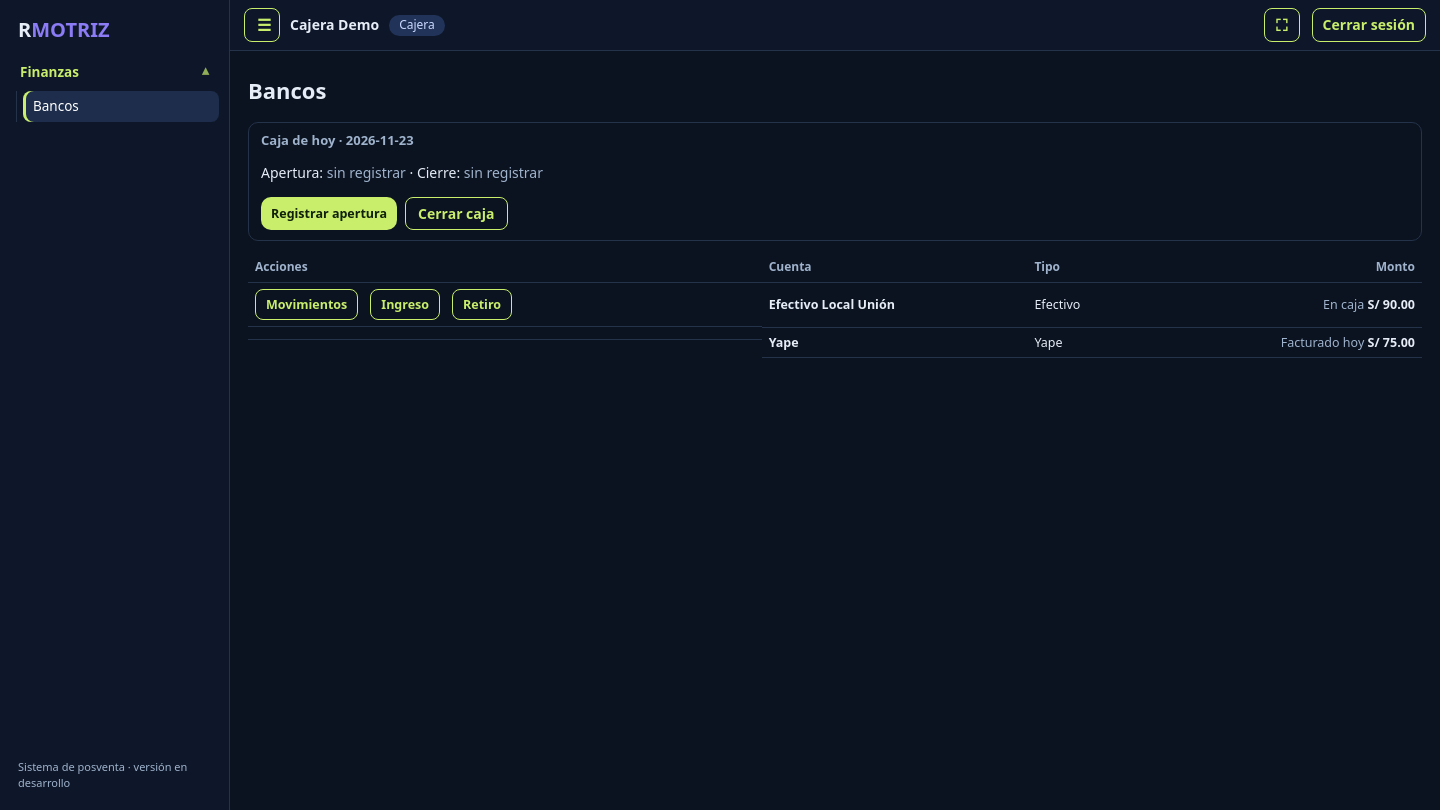
Scenario: Cajera: registra con cuánto abre la caja, ve sus movimientos y cierra la caja
Later steps or results of the test are not shown.
Expected: the table named "Cuentas" is shown, [248,253,1422,358]
Click the button "Registrar apertura" at [329, 213], box [261,197,397,230]
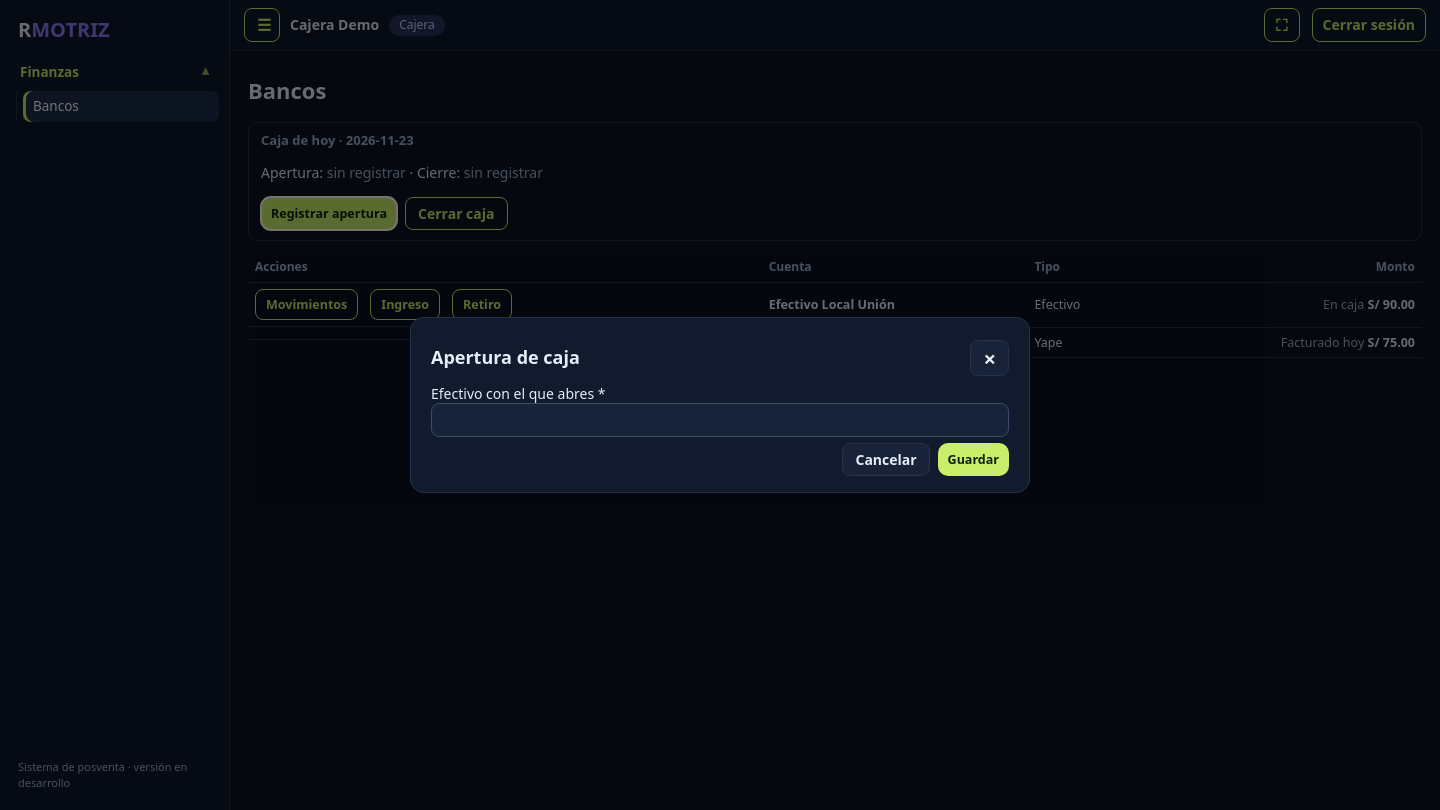
Click the button "Guardar" at [973, 460], box [938,443,1009,476]
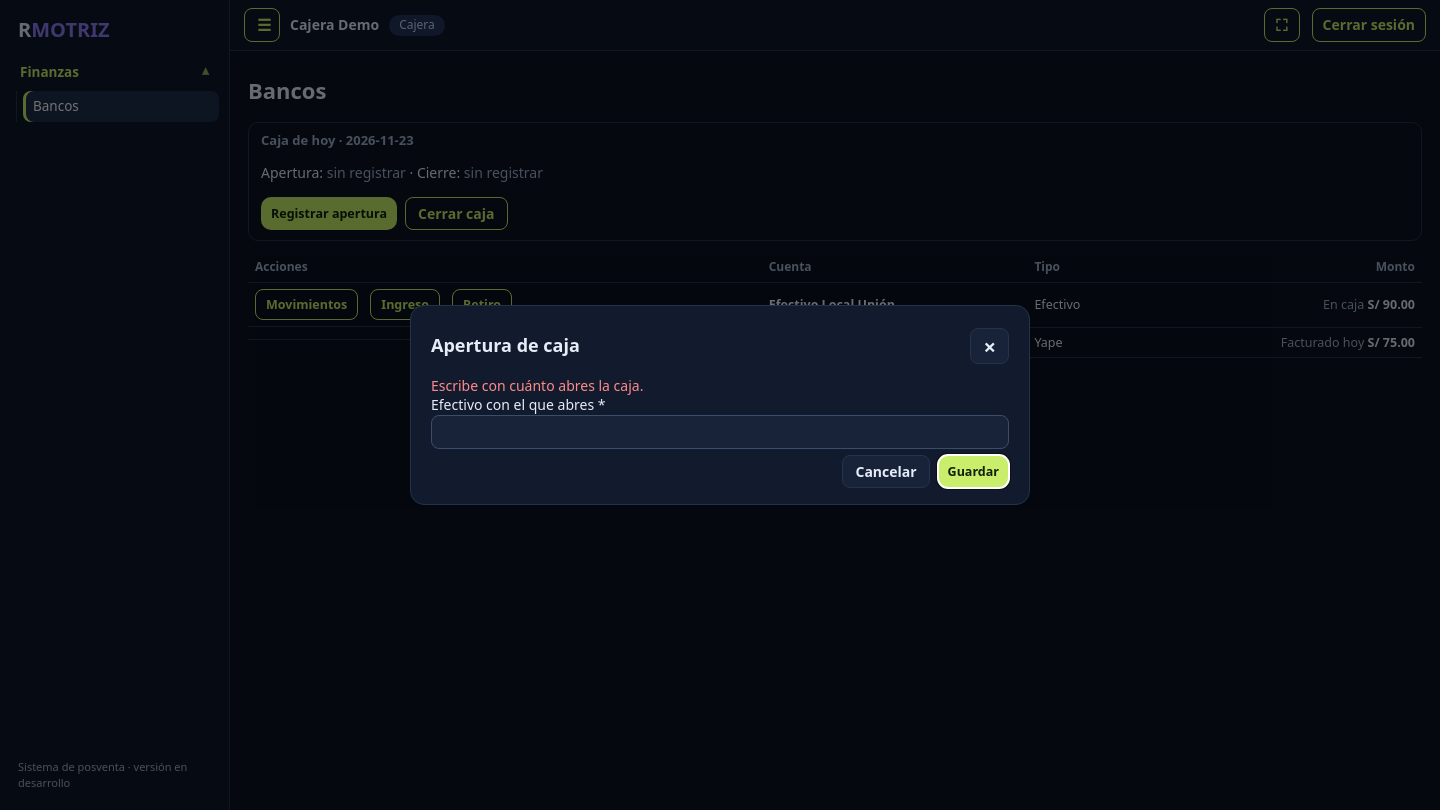
Expected: the message reads "Escribe con cuánto abres la caja.", [431,376,643,395]
Type "200" into the field labelled "Efectivo con el que abres *" at [720, 432], box [431,415,1009,449]
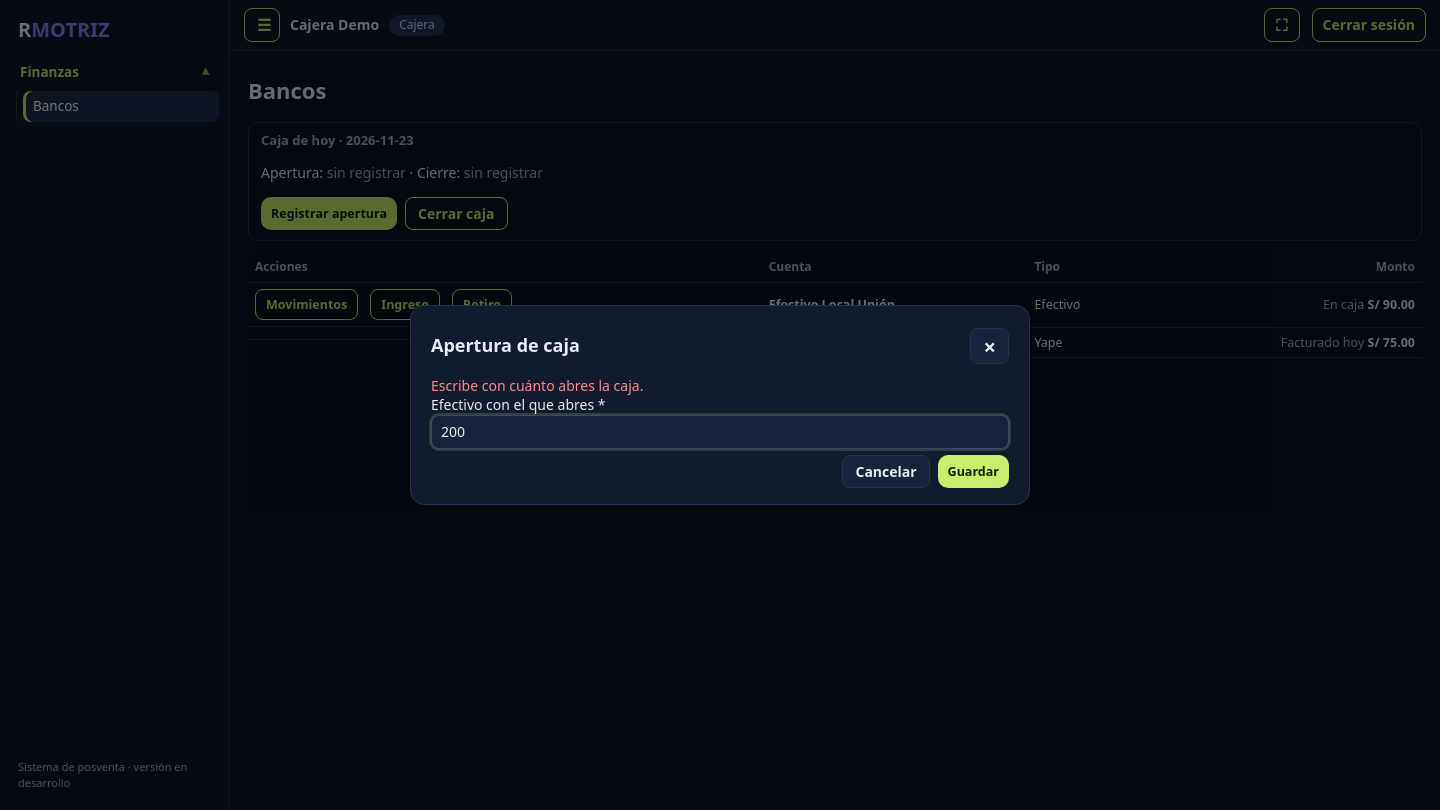
Click the button "Guardar" at [973, 471], box [938,455,1009,488]
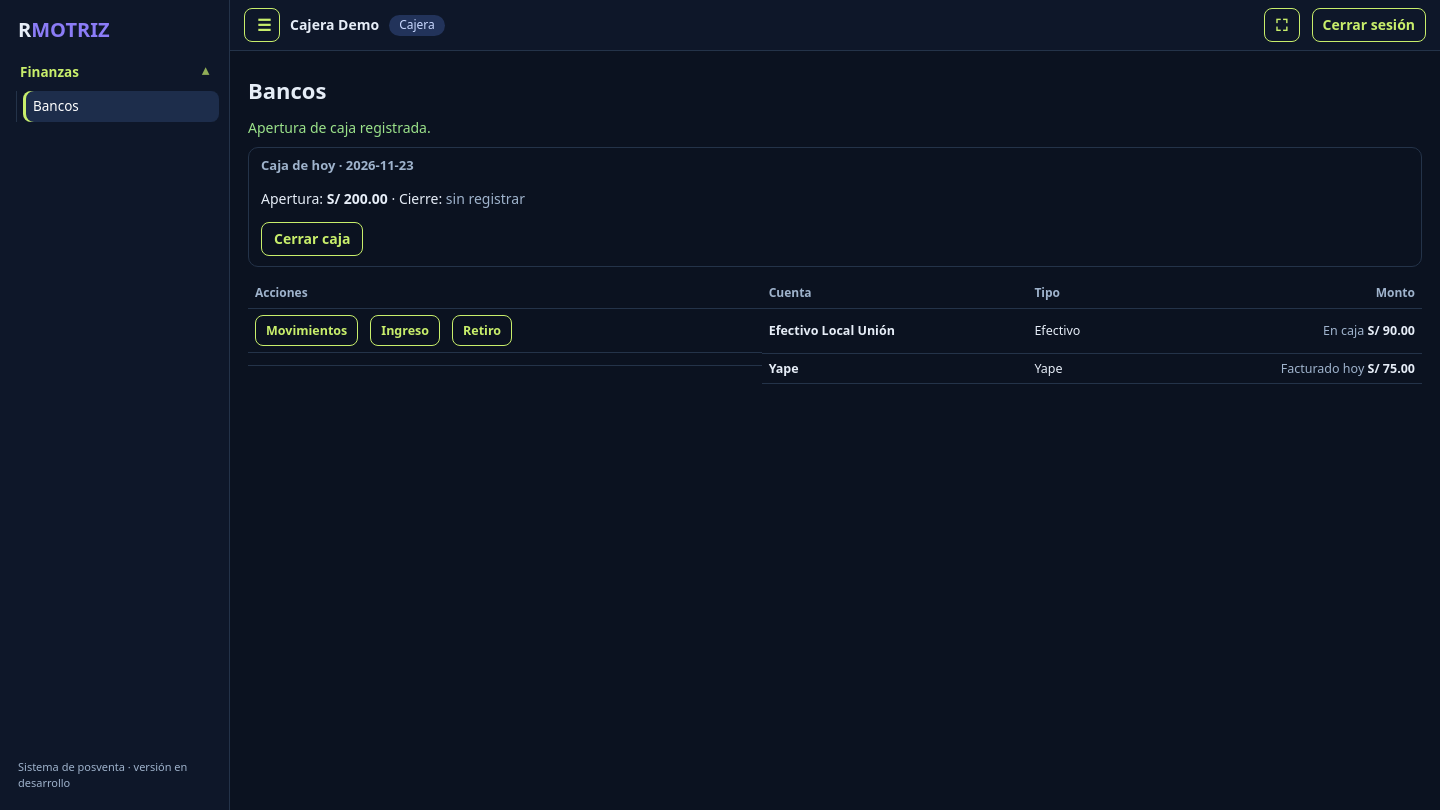
Expected: the text "S/ 200.00" is shown, [327,189,388,208]
Expected: the button "Registrar apertura" is gone
Click the button "Movimientos" at [307, 330], box [255,315,358,346]
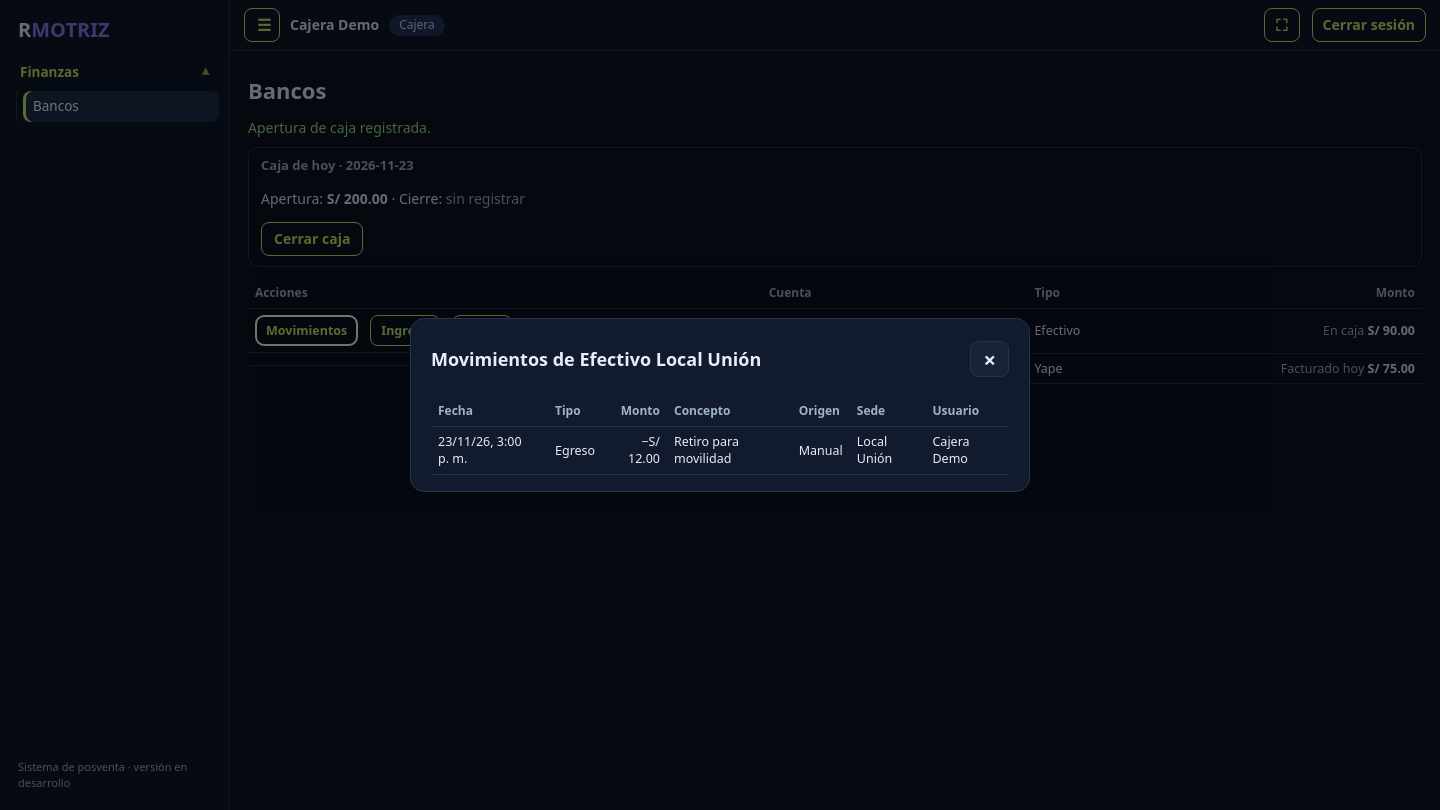
Expected: the text "Retiro para movilidad" is shown, [667,426,792,474]
